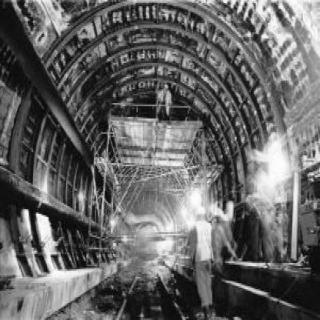Fire: (250, 132, 284, 212)
other: (182, 208, 218, 304), (301, 194, 317, 251), (36, 212, 54, 258), (34, 168, 50, 205), (257, 218, 276, 246), (74, 189, 84, 207)
